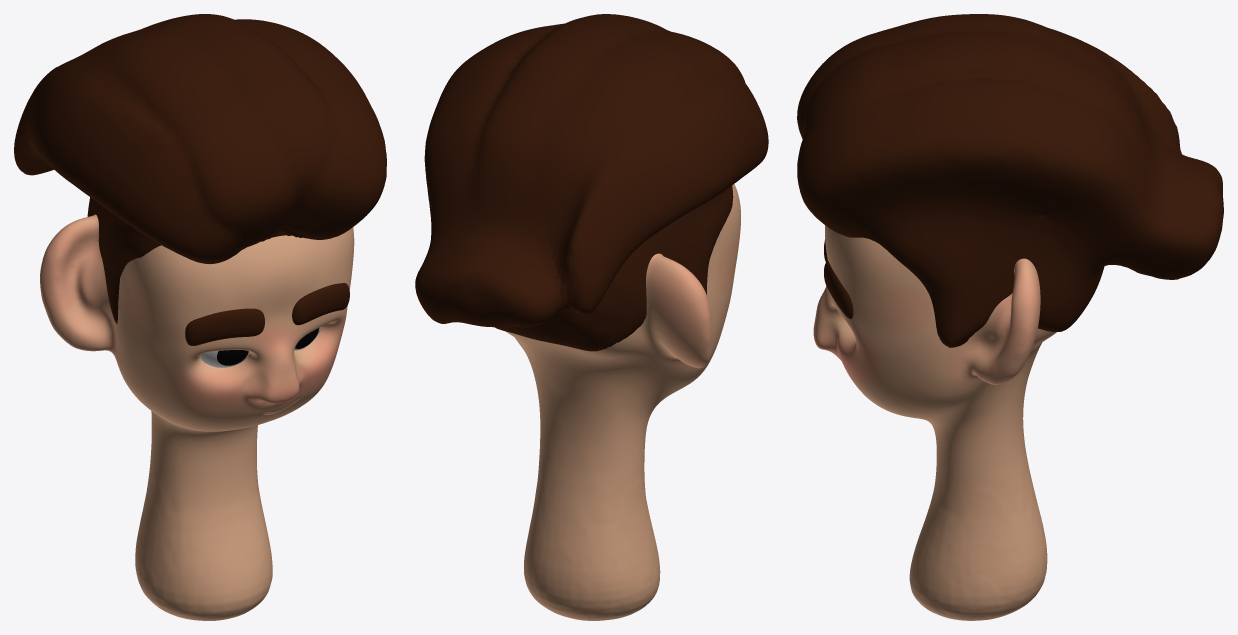
File: sculpt2.glb
The picture shows the model from 3 angles, left to right: view 1: azimuth 30°, elevation 25°; view 2: azimuth 150°, elevation 25°; view 3: azimuth 270°, elevation 25°; orthographic projection.
Visible parts, largest first — view 1: Sphere.001, Cube, Plane, Object; view 2: Sphere.001, Cube; view 3: Sphere.001, Cube, Plane.
Part boxes in pixels (box(x1,y1,x2,y2)): Sphere.001: box(14, 14, 386, 323); Cube: box(40, 214, 354, 620); Plane: box(185, 283, 349, 345); Object: box(200, 326, 321, 367); Sphere.001: box(415, 14, 768, 351); Cube: box(506, 184, 740, 620); Sphere.001: box(797, 14, 1223, 347); Cube: box(813, 225, 1056, 620); Plane: box(824, 239, 853, 318).
Bounding box in the file's own units: 2.3 × 4.48 × 3.01.
